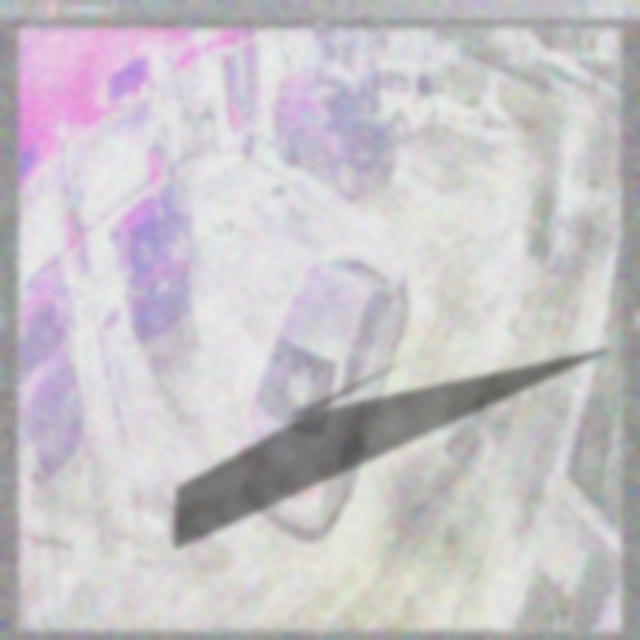Car: (239, 242, 410, 533), (270, 70, 398, 198), (111, 171, 191, 336)
